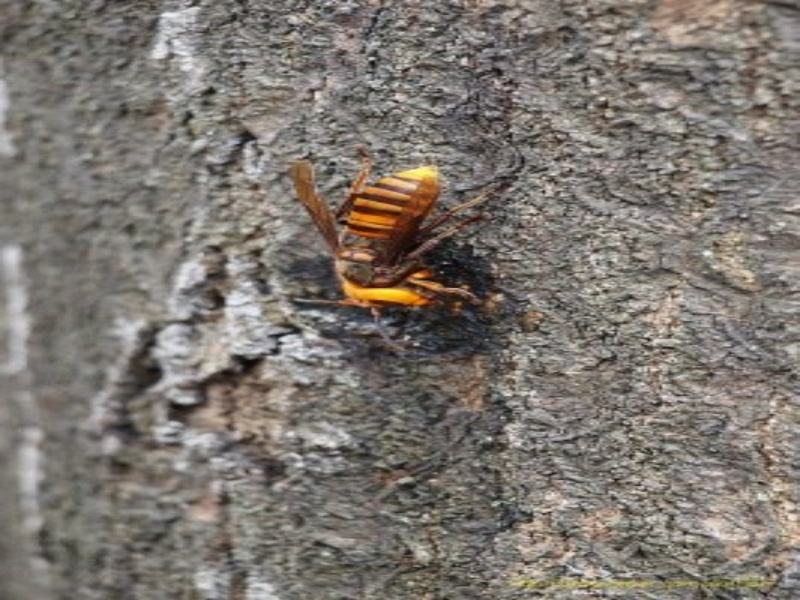asian_giant_hornet: (291, 160, 455, 320)
